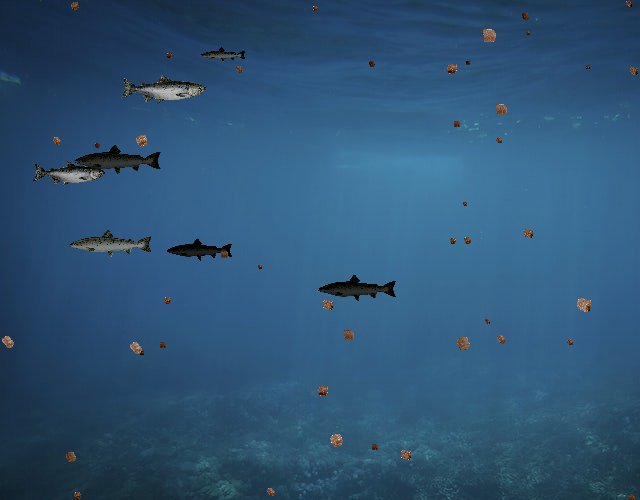Fish: (74, 144, 164, 176), (68, 228, 154, 259), (120, 74, 206, 105), (317, 274, 398, 303), (32, 161, 105, 187), (166, 237, 234, 262), (200, 46, 247, 63)
Pellet: (475, 21, 503, 49), (489, 97, 513, 121), (316, 293, 339, 316), (491, 329, 511, 349), (47, 132, 66, 151), (231, 62, 247, 78), (368, 440, 382, 454), (91, 140, 104, 153), (309, 2, 322, 15), (460, 198, 470, 208)
